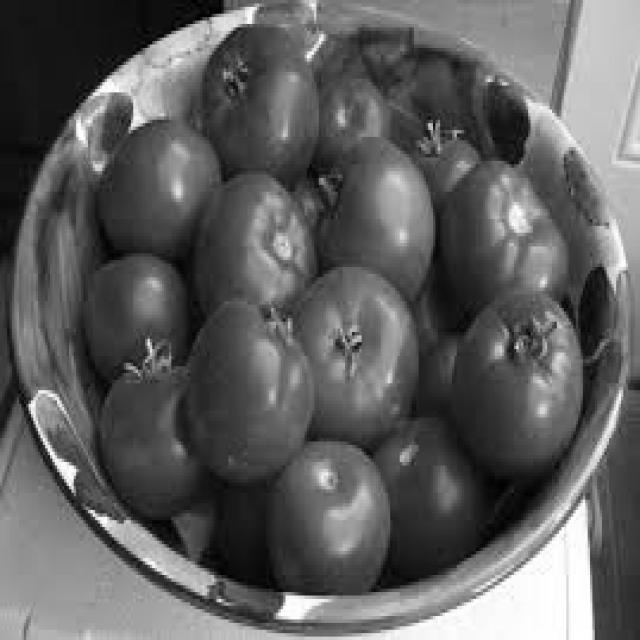Fresh_tomato: (269, 431, 386, 590), (463, 134, 570, 300), (209, 20, 317, 178), (324, 146, 437, 297), (205, 303, 306, 471), (93, 363, 209, 508), (475, 310, 574, 448), (311, 278, 409, 410), (216, 175, 313, 303), (377, 409, 451, 569), (112, 126, 210, 240)
